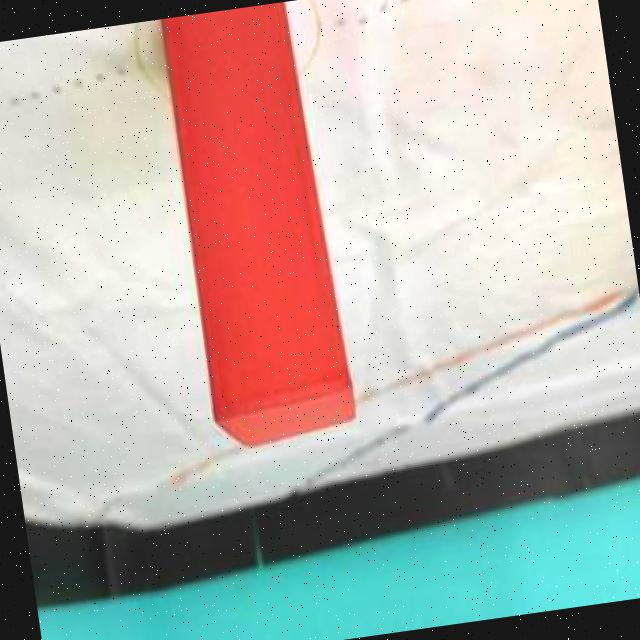redbox: (157, 0, 361, 453)
